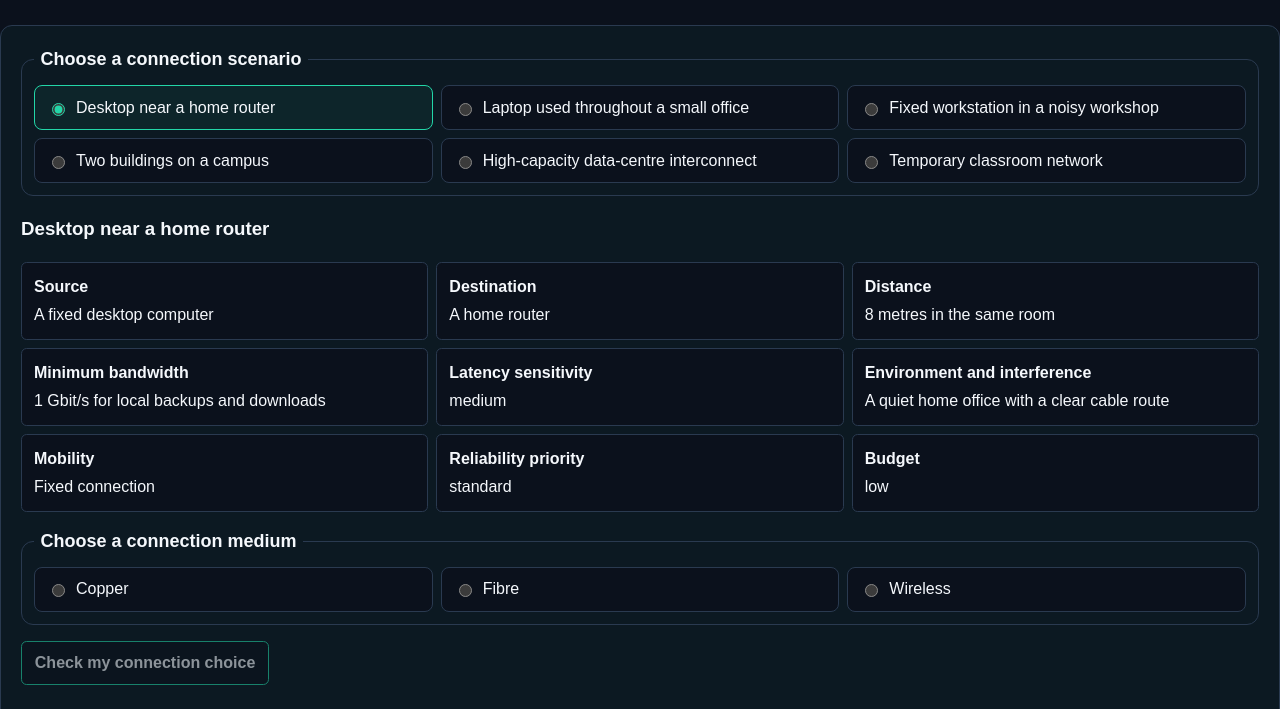
it: ConnectionMediaLab › explains Workable with trade-offs and compares with the recommended option
The width and height of the screenshot is (1280, 709).
Click the radio button labelled "Desktop near a home router" at (58, 109), box top-left (52, 103), bottom-right (65, 116)
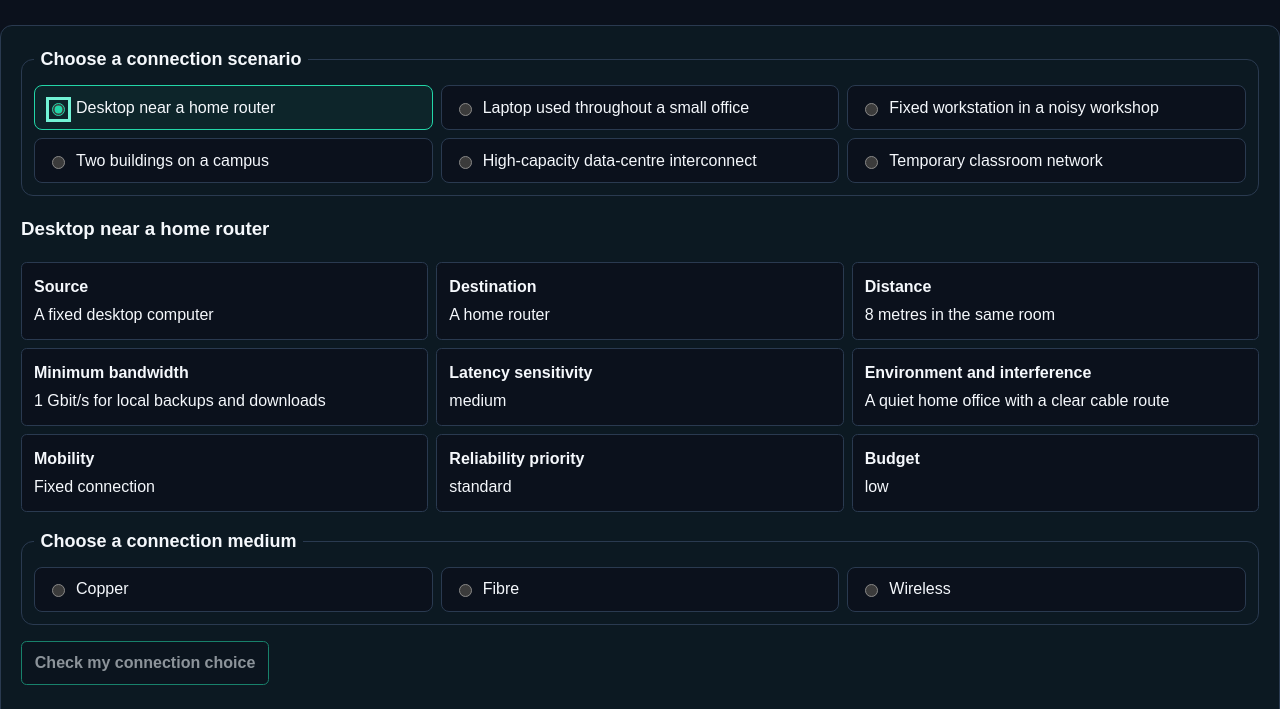
Click the radio button labelled "Fibre" at (465, 591), box top-left (459, 584), bottom-right (472, 598)
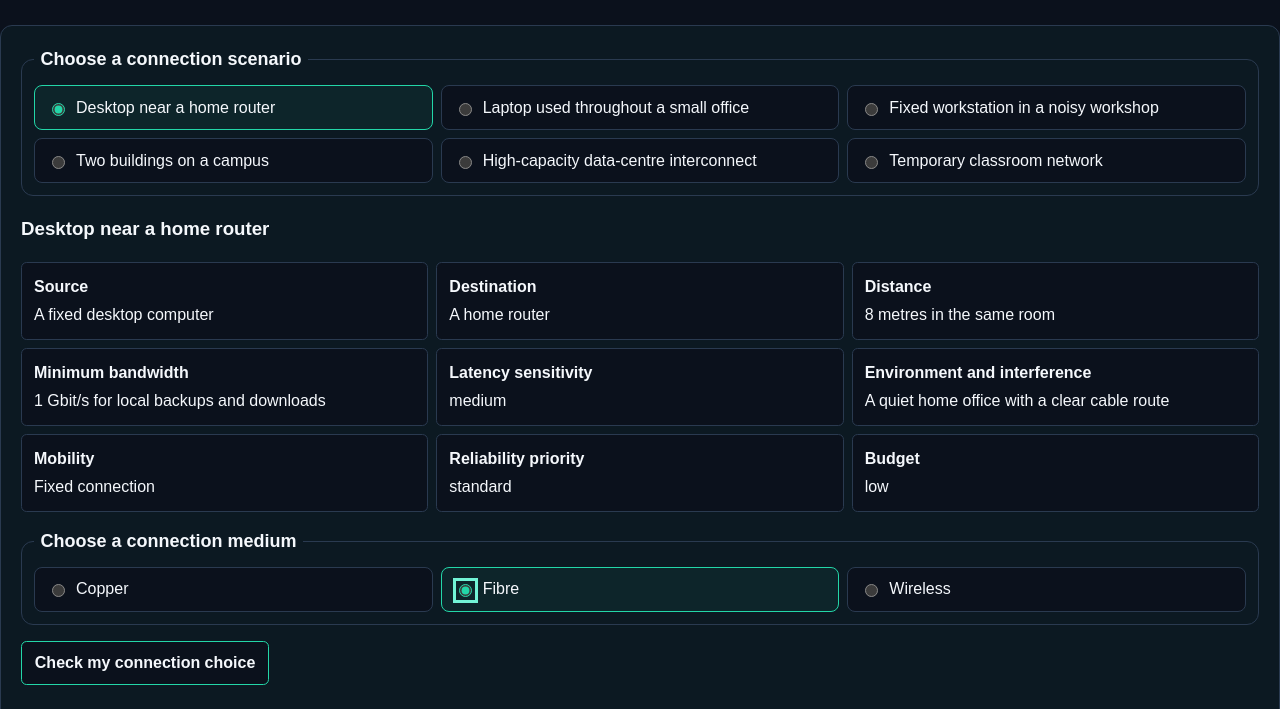
Click the button "Check my connection choice" at (145, 663), box top-left (21, 641), bottom-right (269, 685)
(page scrolled)
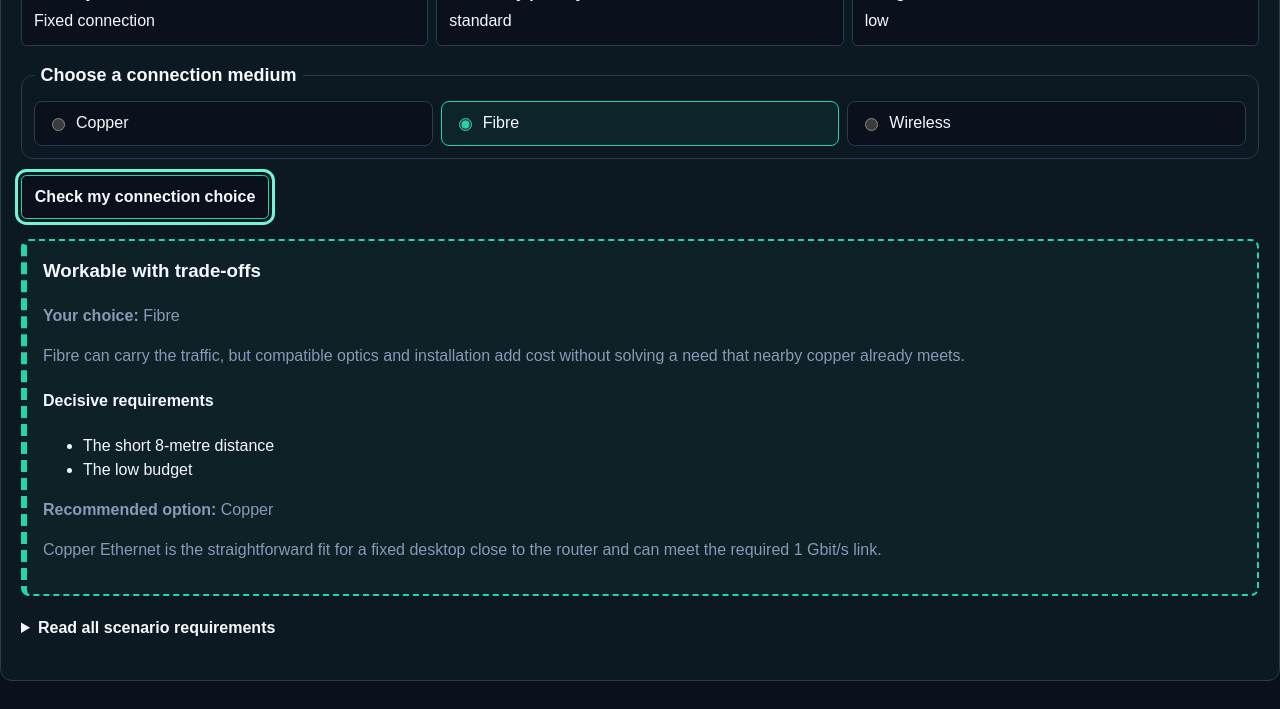
Check: the heading "Workable with trade-offs" is shown, box top-left (43, 260), bottom-right (261, 281)
Check: the element named "Connection choice result" shows "The low budget", box top-left (83, 461), bottom-right (192, 478)
Check: the element named "Connection choice result" shows "compatible optics and installation add cost", box top-left (43, 347), bottom-right (965, 364)
